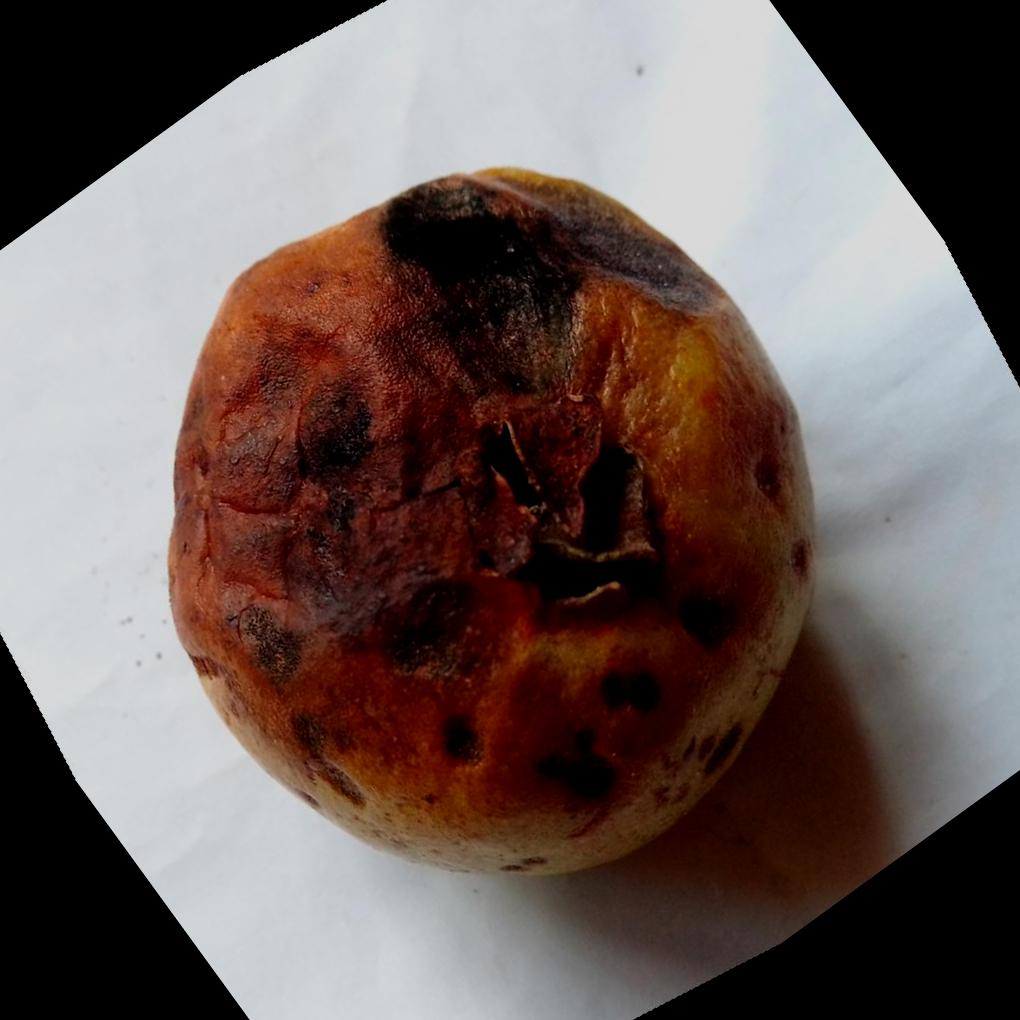FreshOrange: (166, 165, 819, 882)
